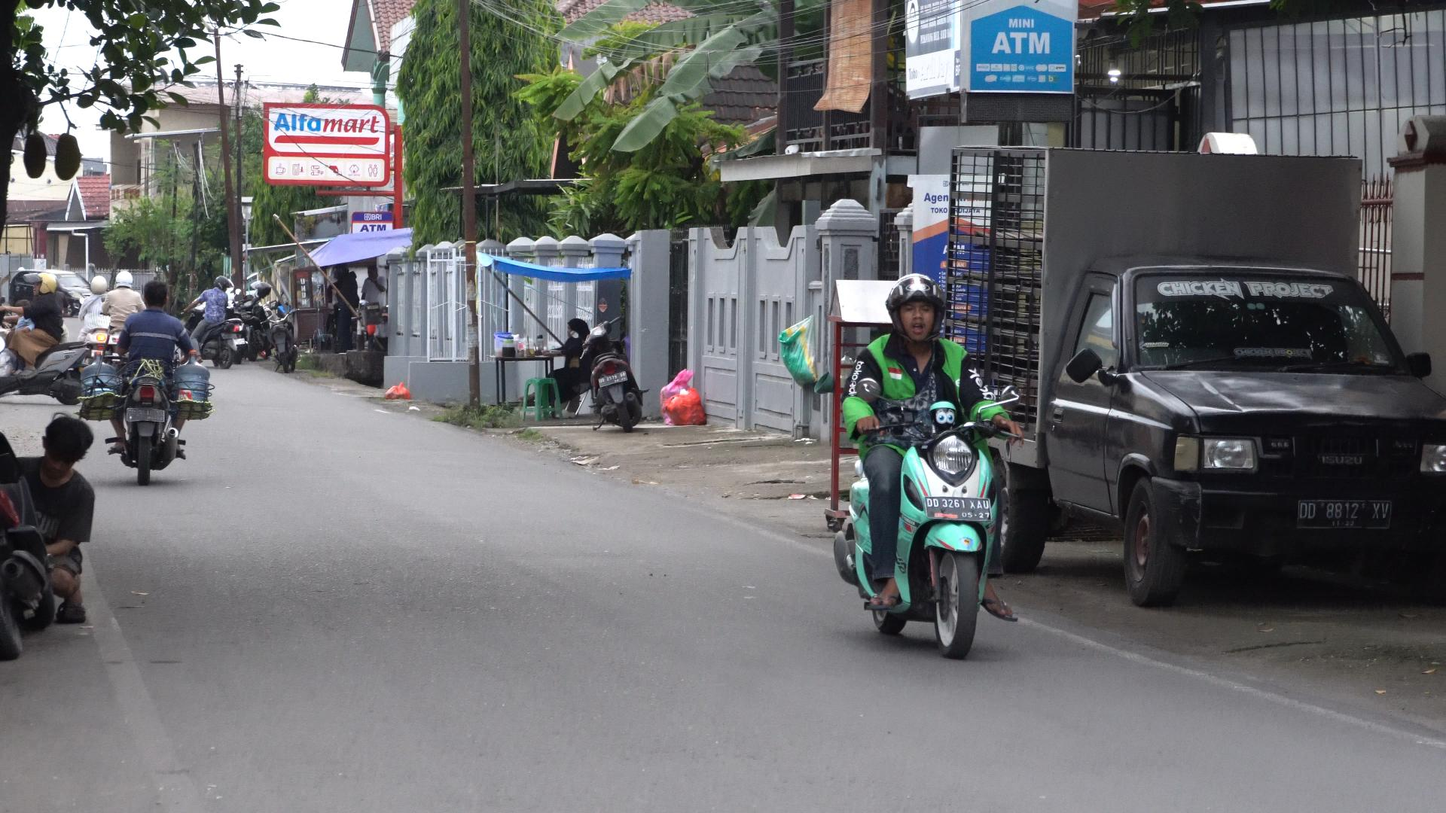number-plate: (919, 492, 997, 519)
